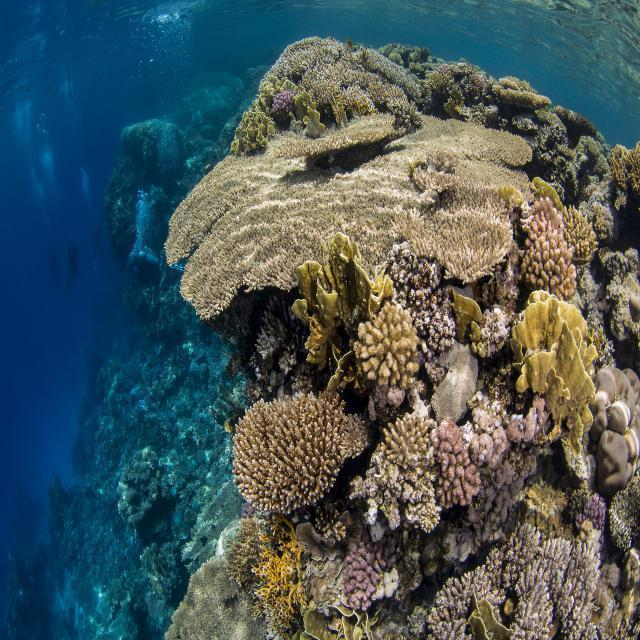Healthy Coral: (161, 121, 531, 313), (426, 526, 608, 637), (223, 386, 343, 523), (513, 291, 617, 449), (285, 236, 394, 363), (470, 393, 542, 525), (358, 303, 424, 398), (592, 361, 639, 491), (522, 194, 580, 292), (432, 410, 473, 505), (257, 540, 304, 617), (344, 534, 381, 607), (521, 483, 570, 531), (466, 598, 513, 640), (580, 493, 611, 539), (345, 406, 367, 466)
